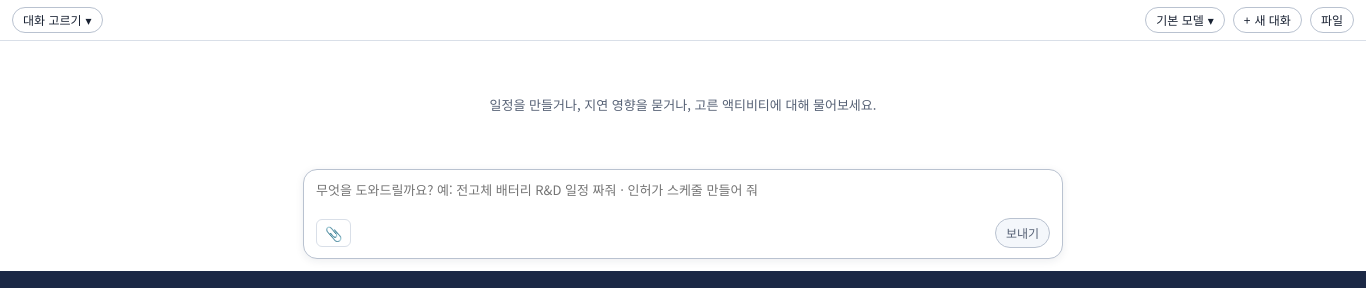
지시서 시험 (실제 사건 모양) › send becomes stop while streaming
This screenshot has width=1366, height=288.
Type "q" into the text box named "에이전트에게 요청".
click(683, 199); type("q")  # box [316,180,1050,218]
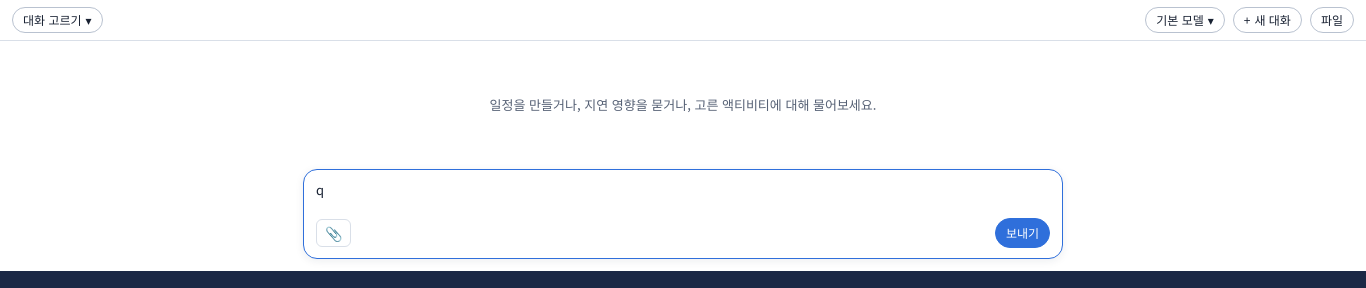
Click the button "보내기".
click(1022, 233)  # box [995,218,1050,248]
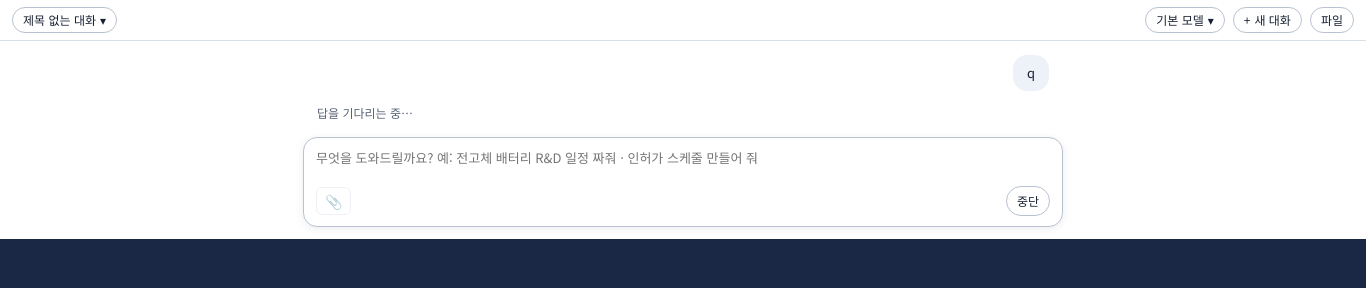
Expected: the button "중단" is shown, [1006,186,1050,216]
Expected: the button "보내기" is gone
